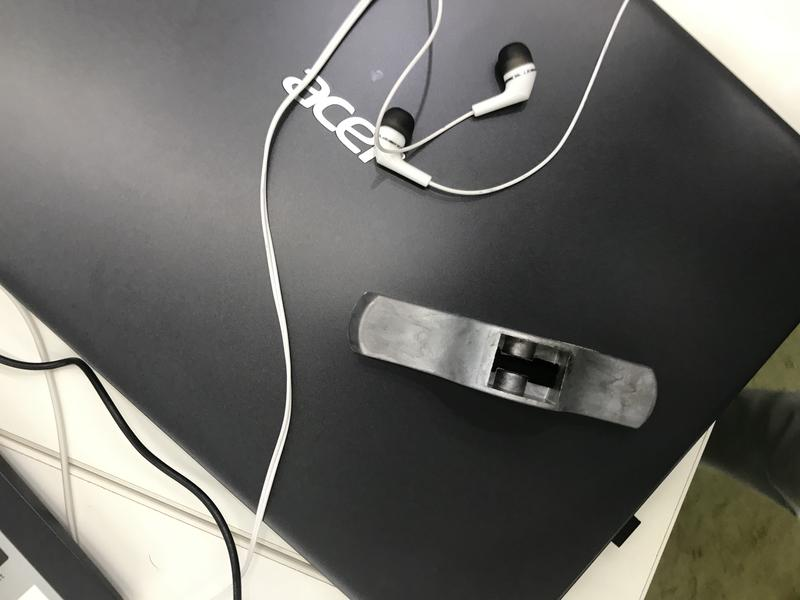zapchast: (330, 272, 675, 444)
